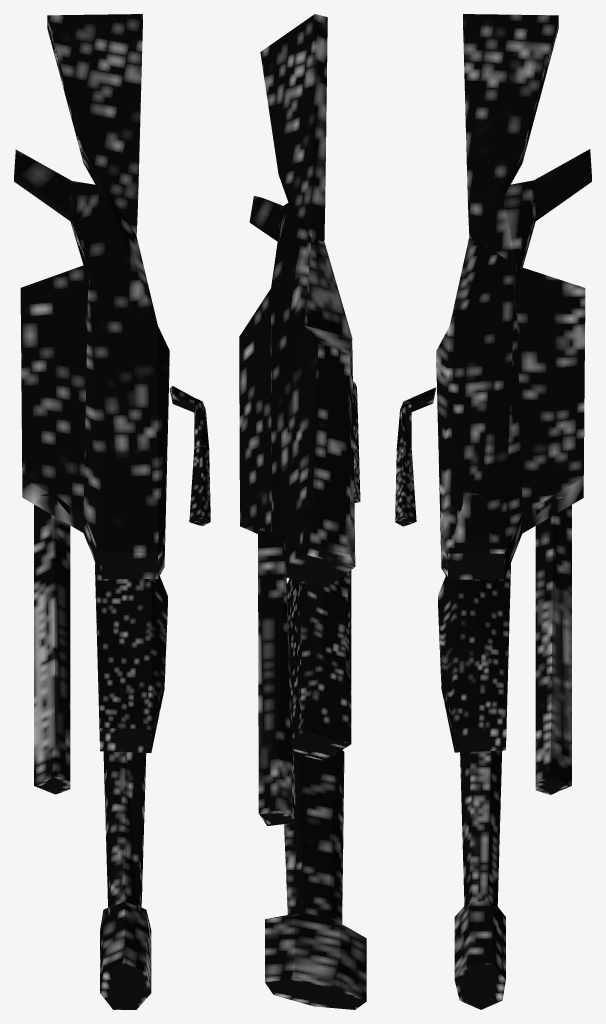
Rendered from ShockRifle.gltf.
3 renders of one model, left to right at view 1: azimuth 90°, elevation 25°; view 2: azimuth 150°, elevation 25°; view 3: azimuth 270°, elevation 25°, orthographic.
Visible parts, largest first — view 1: ShockRifle; view 2: ShockRifle; view 3: ShockRifle.
Boxes of the visible parts, x1,y1,x2,y2 form: ShockRifle: (14,14,210,1009); ShockRifle: (239,14,366,1009); ShockRifle: (395,14,591,1009).
Size of the model in its own units: 0.1087 by 1.05 by 0.1931.
Materials: 1 (1 with a texture image).
